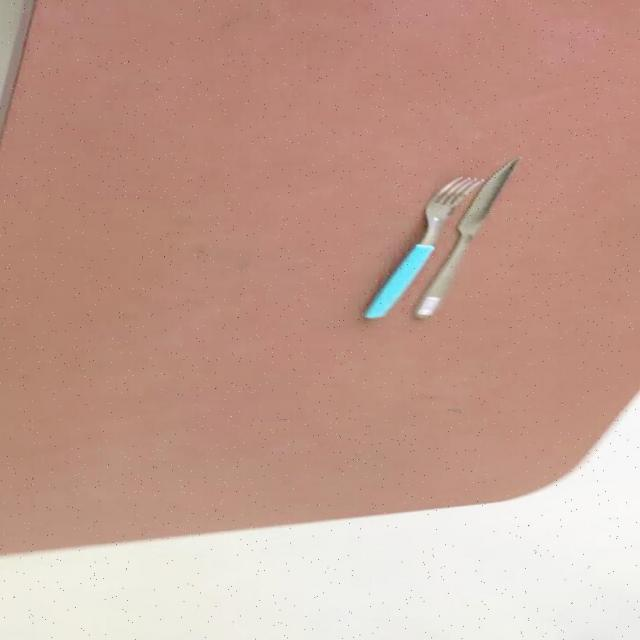Fork: (411, 155, 519, 319), (362, 174, 483, 319)
Knife: (411, 155, 519, 319)
